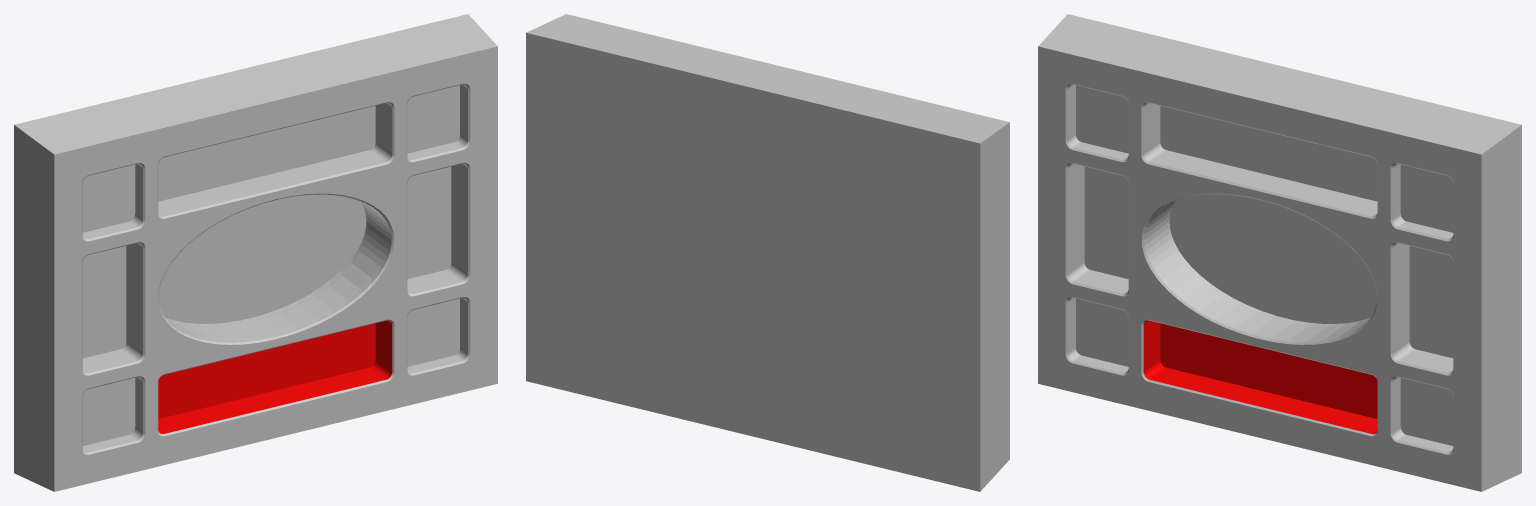
The model's file is TESTE_M2_SF_stp_4_5_6_7_8_9_10_11_12.obj.
3 views of the same model, side by side, from view 1: azimuth 30°, elevation 25°; view 2: azimuth 150°, elevation 25°; view 3: azimuth 330°, elevation 25° (orthographic).
Visible parts, largest first — view 1: Object1; view 2: Object1; view 3: Object1.
Part boxes in pixels (<box>): Object1: <box>14,14,497,491</box>; Object1: <box>526,14,1009,491</box>; Object1: <box>1038,14,1521,491</box>.
Size of the model in its own units: 150 by 110 by 20.
